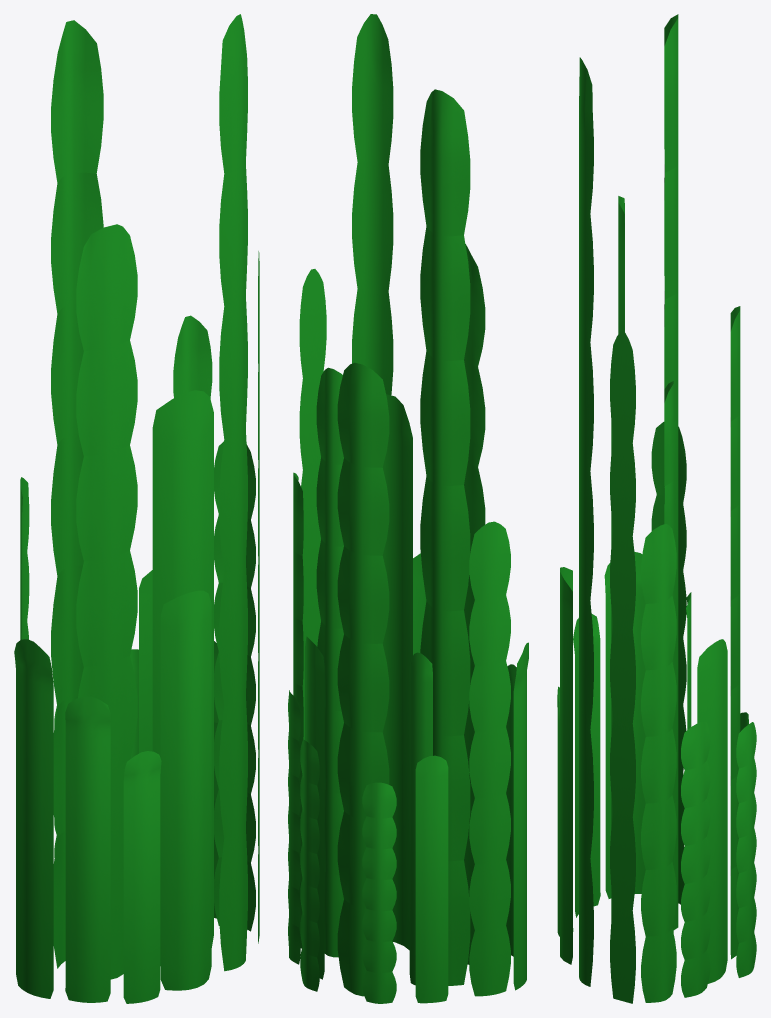
File: Kelp_long.fbx
3 views of the same model, side by side, from view 1: azimuth 30°, elevation 25°; view 2: azimuth 150°, elevation 25°; view 3: azimuth 270°, elevation 25° (orthographic). The views are drawn at different scales.
Visible parts, largest first — view 1: Kelp1; view 2: Kelp1; view 3: Kelp1.
Boxes of the visible parts, x1,y1,x2,y2 form: Kelp1: [14, 14, 259, 1003]; Kelp1: [288, 14, 528, 1003]; Kelp1: [557, 14, 756, 1003].
Size of the model in its own units: 54.25 by 209 by 40.81.
